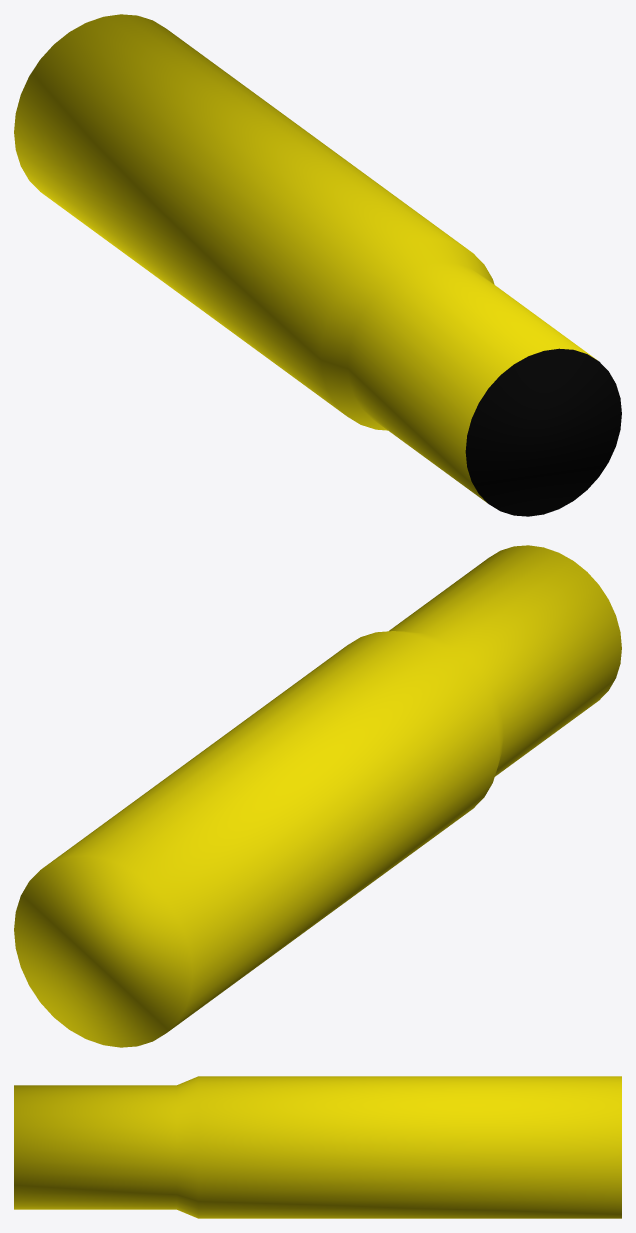
File: shell high caliber.glb
3 views of the same model, one above another, from view 1: azimuth 30°, elevation 25°; view 2: azimuth 150°, elevation 25°; view 3: azimuth 270°, elevation 25° (orthographic). The views are drawn at different scales.
Parts seen in each view (by area): view 1: Cylinder; view 2: Cylinder; view 3: Cylinder.
Part boxes in pixels (x1,y1,x2,y2): Cylinder: (14, 14, 621, 516); Cylinder: (14, 545, 621, 1047); Cylinder: (14, 1076, 621, 1218).
Size of the model in its own units: 0.016 by 0.016 by 0.0683.
